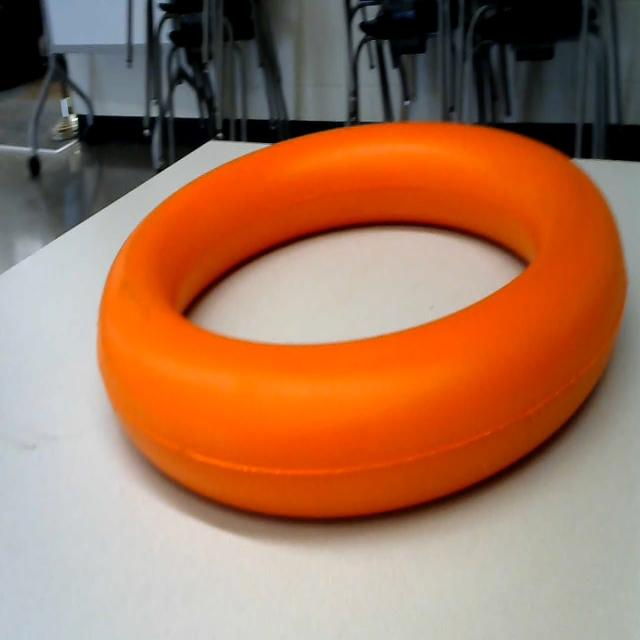note: (86, 97, 630, 566)
